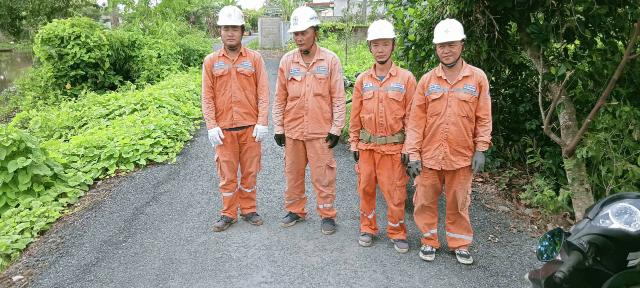gloves: (195, 123, 230, 148), (466, 146, 489, 175), (243, 121, 271, 144), (324, 125, 343, 155), (350, 140, 367, 168), (273, 127, 292, 150), (410, 153, 424, 182), (400, 144, 412, 164)
harness: (357, 126, 408, 145)
helmet: (428, 15, 471, 52), (286, 4, 321, 36), (364, 17, 396, 46), (215, 3, 245, 32)
shoes: (278, 200, 312, 235), (202, 204, 239, 236), (384, 228, 414, 265), (316, 207, 342, 243), (239, 206, 269, 233), (352, 220, 375, 253), (416, 236, 442, 265), (450, 239, 474, 267)
